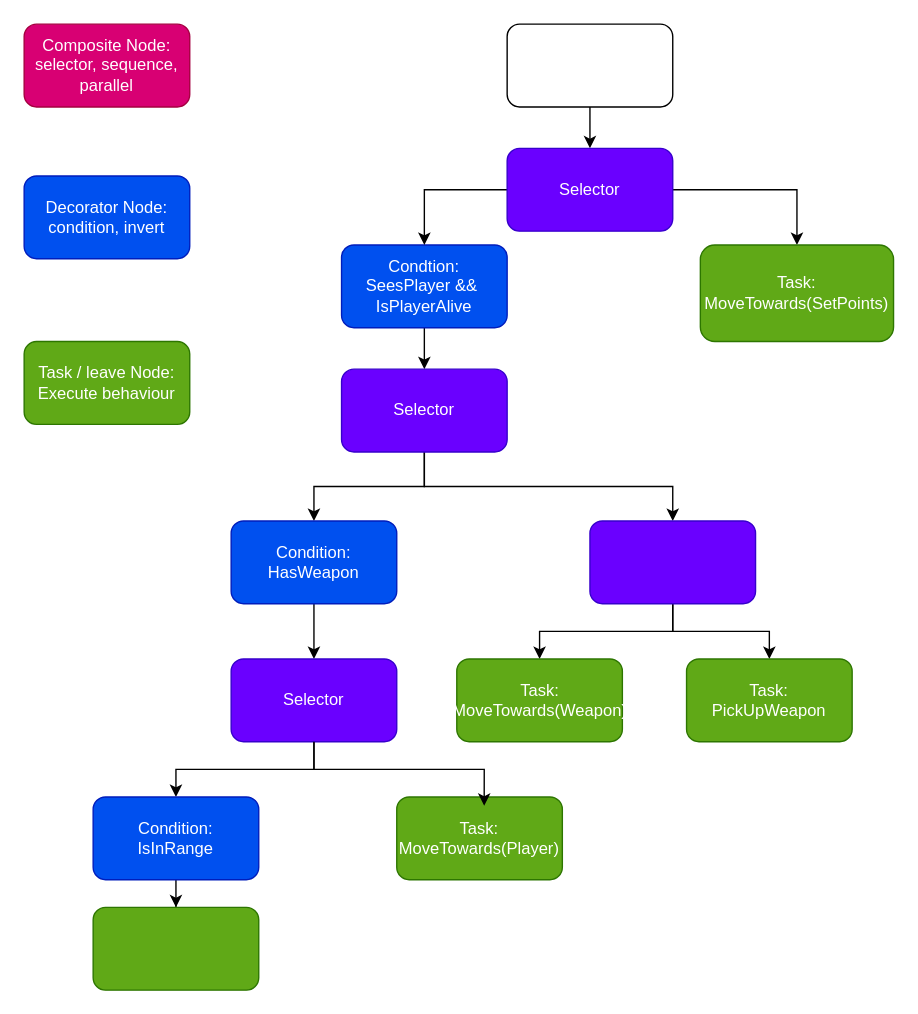
This 918x1014 diagram has some shape labels left out. Here are the shapes that lost their labels. From the top down, the box of each, then its label:
(506, 23, 673, 107): Start
(589, 520, 756, 604): Sequence
(92, 906, 259, 990): Task: AttackPlayer
